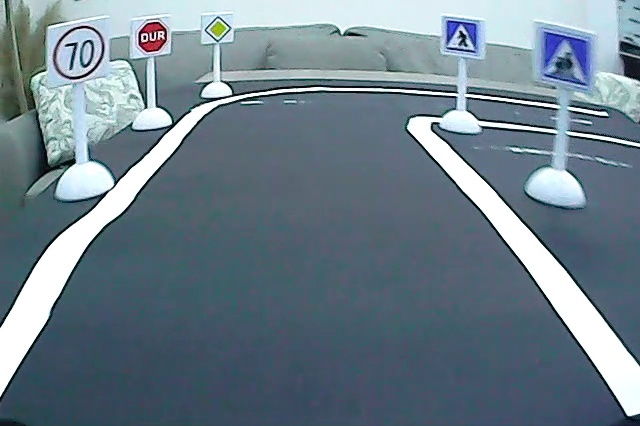pedestrian crossing: (442, 18, 481, 57)
school crossing: (539, 26, 593, 91)
speed limit 70: (52, 23, 106, 84)
stop sign: (135, 16, 172, 56)
